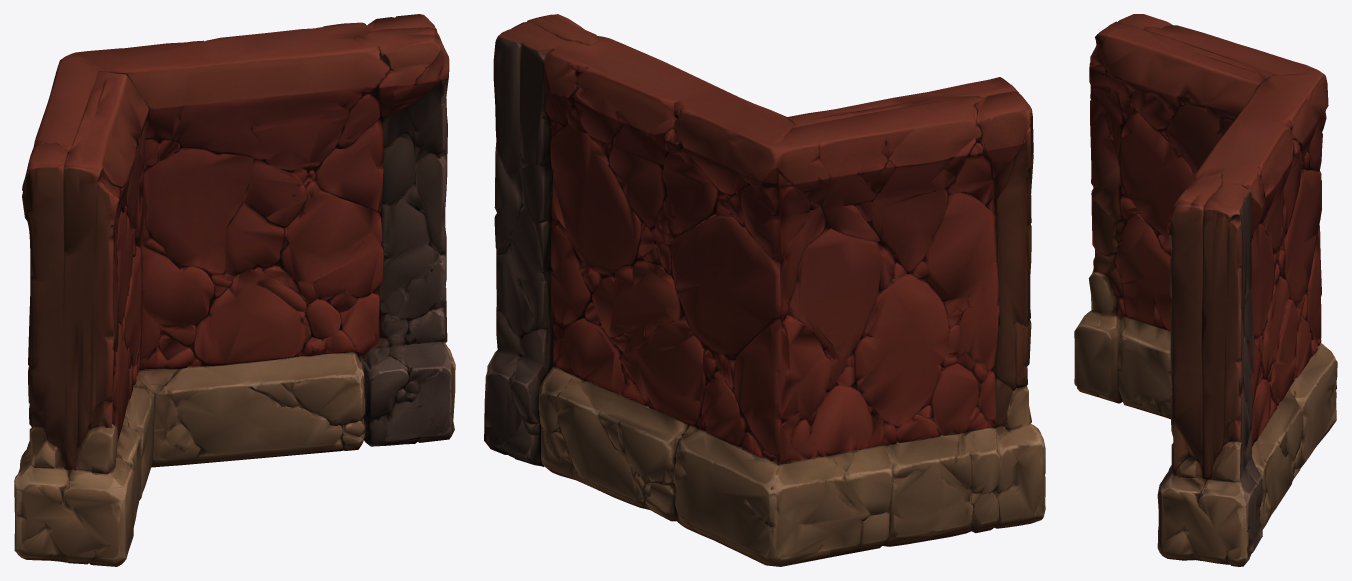
Rendered from muro_de_piedra_agrietado.glb.
3 renders of one model, left to right at view 1: azimuth 30°, elevation 25°; view 2: azimuth 150°, elevation 25°; view 3: azimuth 270°, elevation 25°, orthographic. The views are drawn at different scales.
Visible parts, largest first — view 1: muro_de_piedra_agrietado; view 2: muro_de_piedra_agrietado; view 3: muro_de_piedra_agrietado.
Boxes of the visible parts, left/top/right/bottom form: muro_de_piedra_agrietado: left=14, top=14, right=455, bottom=566; muro_de_piedra_agrietado: left=484, top=14, right=1045, bottom=566; muro_de_piedra_agrietado: left=1074, top=14, right=1337, bottom=566.
Size of what is drawn, in the model's own units: 3 by 2.4 by 1.6.
1 material, 1 textured.
